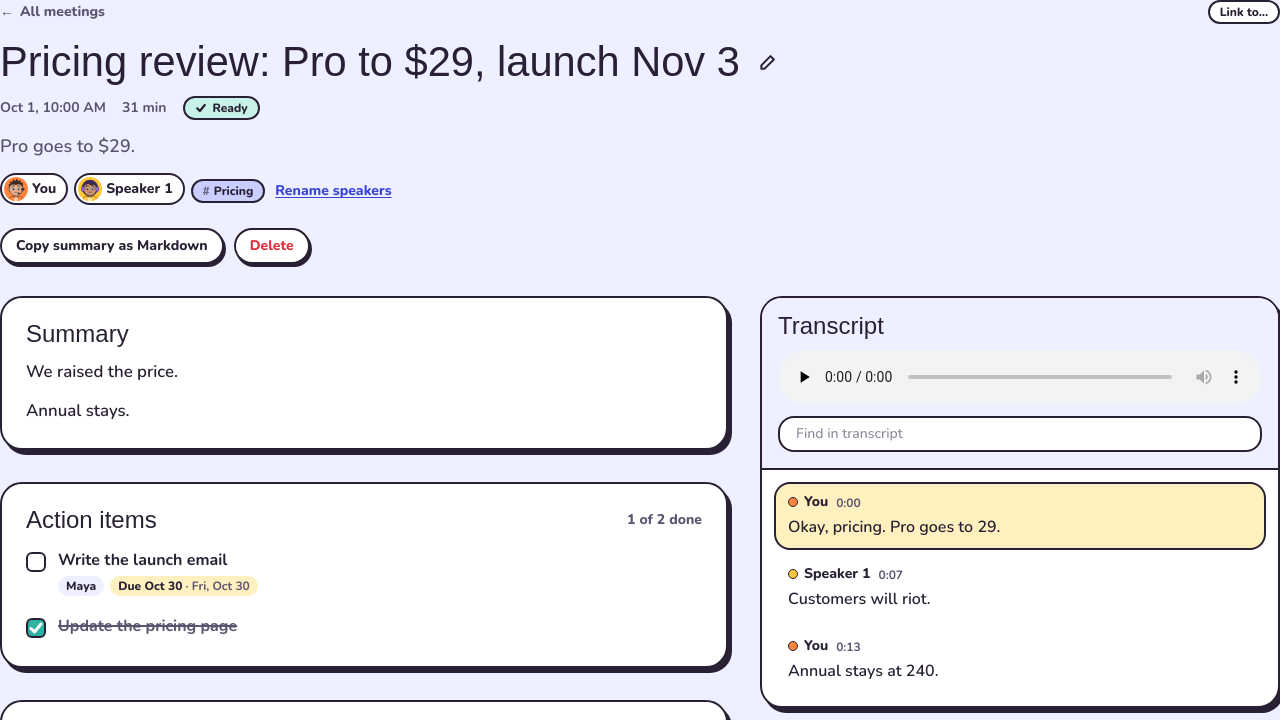
Test: Meeting navigation › Link to… › shows a failed link in the picker
Click the button "Link to…".
click(1244, 12)  # box [1208,0,1279,24]
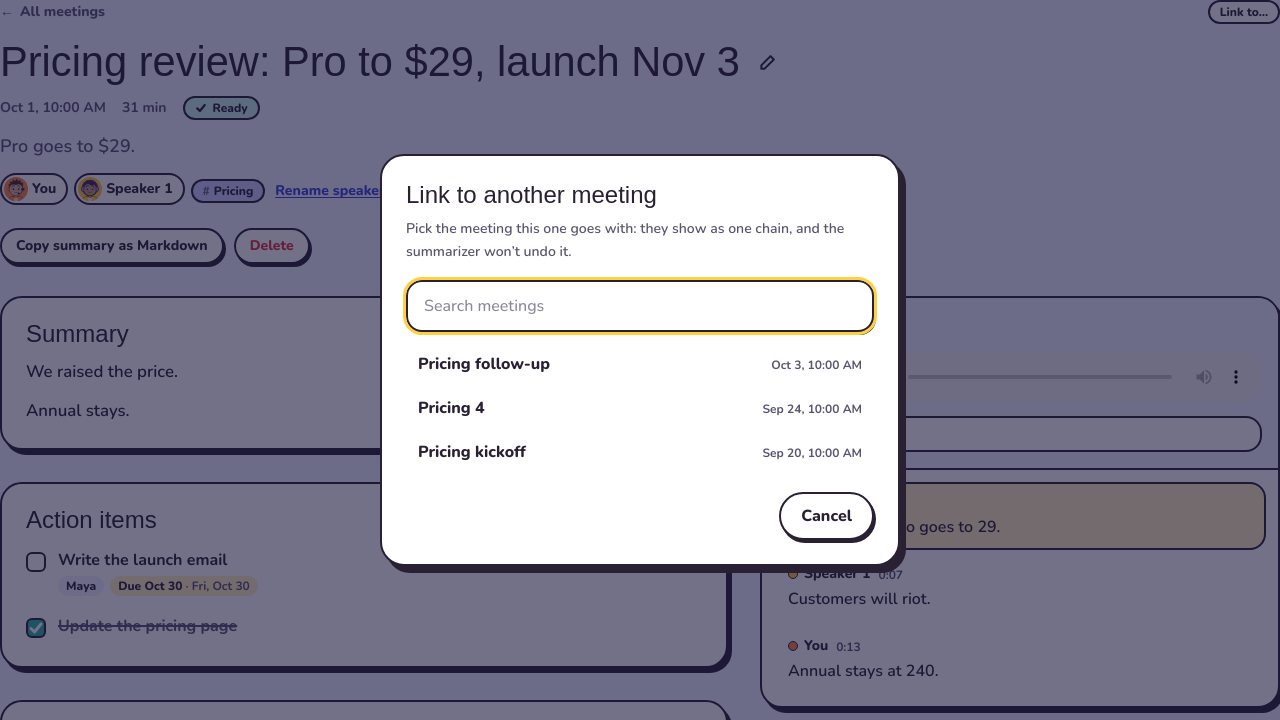
Click the button "Pricing kickoff Sep 20, 10:00 AM".
click(472, 452)  # box [406,432,874,472]
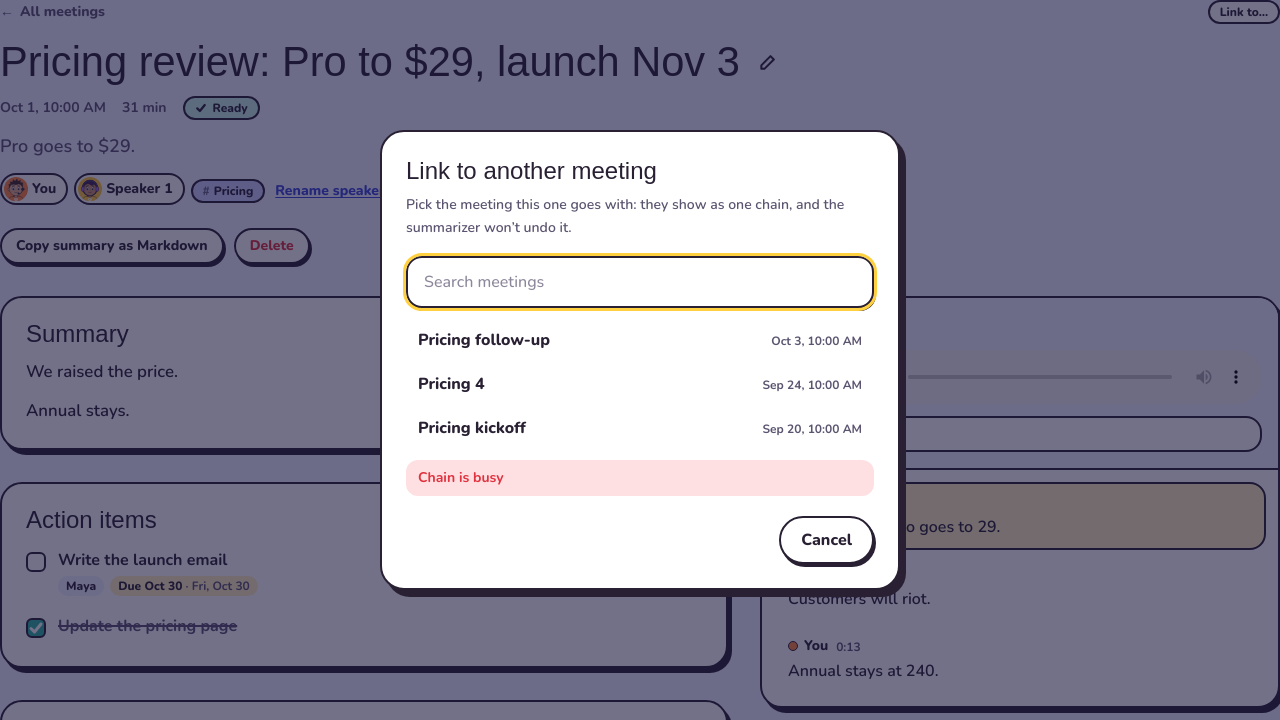
Result: the dialog is shown at [380,130,900,590]
Result: the message reads "Chain is busy" at [418,468,504,487]
